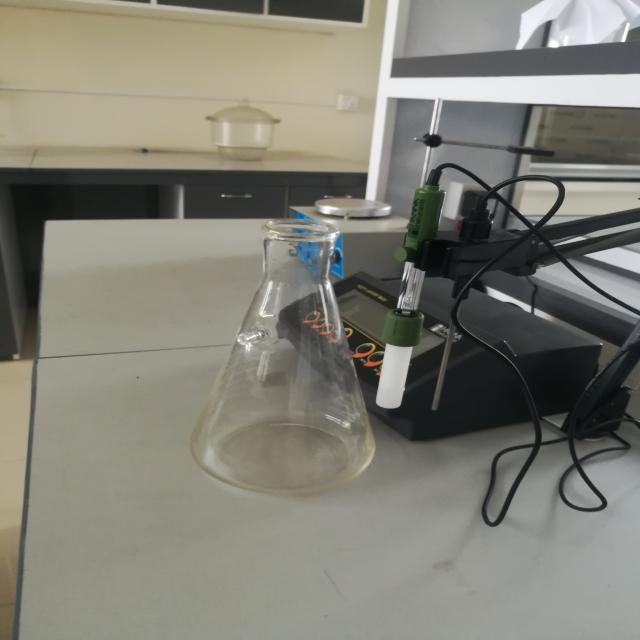Conical_Flask: (144, 189, 412, 525)
